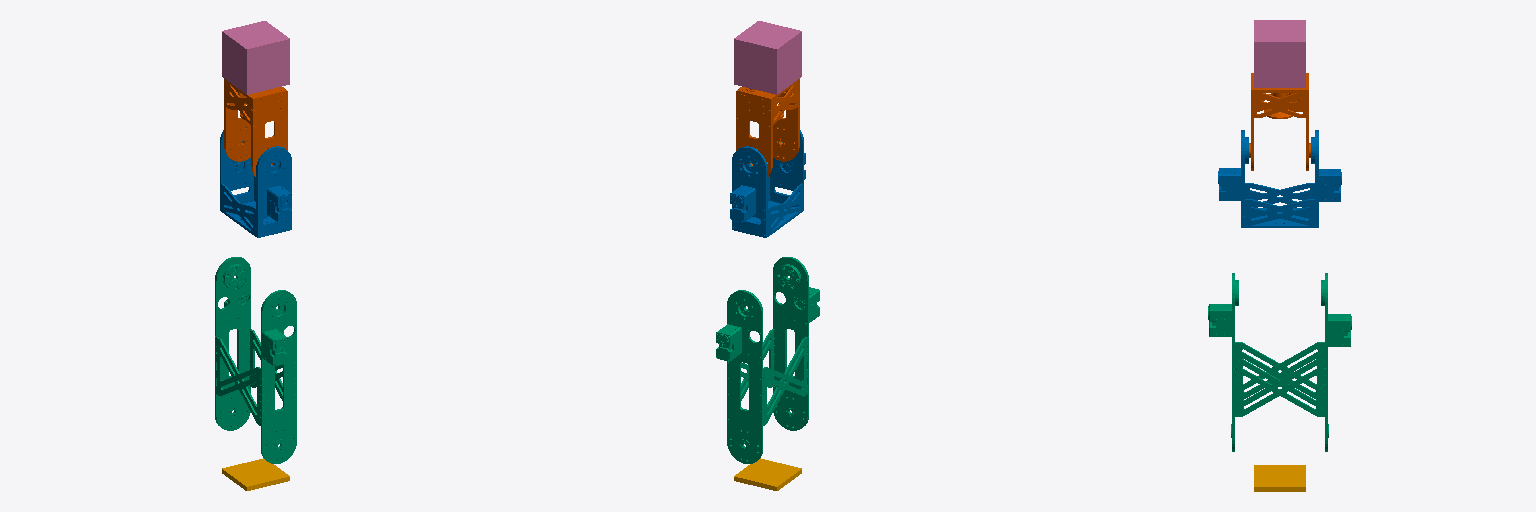
The robot description file, URDF, robot "apsara":
<?xml version="1.0" encoding="utf-8"?>
<!-- =================================================================================== -->
<!-- |    This document was autogenerated by xacro from mrm.xacro                      | -->
<!-- |    EDITING THIS FILE BY HAND IS NOT RECOMMENDED                                 | -->
<!-- =================================================================================== -->
<robot name="apsara">
  <!-- END - Include -->
  <link name="base_link">
    <inertial>
      <mass value="0"/>
      <origin rpy="0 0 0" xyz="0 0 -0.0915"/>
      <inertia ixx="0" ixy="0" ixz="0" iyy="0" iyz="0" izz="0"/>
    </inertial>
    <collision>
      <origin rpy="0 0 0" xyz="0 0 -0.0915"/>
      <geometry>
        <box size="0.1 0.1 0.01"/>
      </geometry>
    </collision>
    <visual>
      <origin rpy="0 0 0" xyz="0 0 -0.0915"/>
      <geometry>
        <box size="0.1 0.1 0.01"/>
      </geometry>
    </visual>
  </link>
  <joint name="base_link__link_01" type="revolute">
    <axis xyz="0 0 1"/>
    <limit effort="1000" lower="-3.14" upper="3.14" velocity="0.5"/>
    <origin rpy="0 0 0" xyz="0 0 -0.0915"/>
    <parent link="base_link"/>
    <child link="link_01"/>
  </joint>
  <transmission name="trans_base_link__link_01">
    <type>transmission_interface/SimpleTransmission</type>
    <joint name="base_link__link_01">
      <hardwareInterface>hardware_interface/EffortJointInterface</hardwareInterface>
    </joint>
    <actuator name="motor_base_link__link_01">
      <hardwareInterface>hardware_interface/EffortJointInterface</hardwareInterface>
      <mechanicalReduction>1</mechanicalReduction>
    </actuator>
  </transmission>
  <link name="link_01">
    <inertial>
      <mass value="157.633"/>
      <origin rpy="0 0 0" xyz="0 0 0"/>
      <inertia ixx="13.235" ixy="0" ixz="0" iyy="13.235" iyz="0" izz="9.655"/>
    </inertial>
    <collision>
      <origin rpy="0 0 0" xyz="0 0 0"/>
      <geometry>
        <mesh filename="package://apsara/meshes/link01.stl" scale="0.001 0.001 0.001"/>
      </geometry>
    </collision>
    <visual>
      <origin rpy="0 0 0" xyz="0 0 0"/>
      <geometry>
        <mesh filename="package://apsara/meshes/link01.stl" scale="0.001 0.001 0.001"/>
      </geometry>
      <material name="light_black"/>
    </visual>
  </link>
  <joint name="link_01__link_02" type="revolute">
    <axis xyz="0 1 0"/>
    <limit effort="1000" lower="-1.62" upper="1.62" velocity="0.5"/>
    <origin rpy="0 0 0" xyz="0 0 0.1"/>
    <parent link="link_01"/>
    <child link="link_02"/>
  </joint>
  <transmission name="trans_link_01__link_02">
    <type>transmission_interface/SimpleTransmission</type>
    <joint name="link_01__link_02">
      <hardwareInterface>hardware_interface/EffortJointInterface</hardwareInterface>
    </joint>
    <actuator name="motor_link_01__link_02">
      <hardwareInterface>hardware_interface/EffortJointInterface</hardwareInterface>
      <mechanicalReduction>1</mechanicalReduction>
    </actuator>
  </transmission>
  <link name="link_02">
    <inertial>
      <mass value="157.633"/>
      <origin rpy="0 0 0" xyz="0 0 -0.1"/>
      <inertia ixx="13.235" ixy="0" ixz="0" iyy="13.235" iyz="0" izz="9.655"/>
    </inertial>
    <collision>
      <origin rpy="0 0 0" xyz="0 0 -0.1"/>
      <geometry>
        <mesh filename="package://apsara/meshes/link12.stl" scale="0.001 0.001 0.001"/>
      </geometry>
    </collision>
    <visual>
      <origin rpy="0 0 0" xyz="0 0 -0.1"/>
      <geometry>
        <mesh filename="package://apsara/meshes/link12.stl" scale="0.001 0.001 0.001"/>
      </geometry>
      <material name="light_black"/>
    </visual>
  </link>
  <joint name="link_02__link_03" type="revolute">
    <axis xyz="0 1 0"/>
    <limit effort="1000" lower="-2.3" upper="2.3" velocity="0.5"/>
    <origin rpy="0 0 0" xyz="0 0 0.299"/>
    <parent link="link_02"/>
    <child link="link_03"/>
  </joint>
  <transmission name="trans_link_02__link_03">
    <type>transmission_interface/SimpleTransmission</type>
    <joint name="link_02__link_03">
      <hardwareInterface>hardware_interface/EffortJointInterface</hardwareInterface>
    </joint>
    <actuator name="motor_link_02__link_03">
      <hardwareInterface>hardware_interface/EffortJointInterface</hardwareInterface>
      <mechanicalReduction>1</mechanicalReduction>
    </actuator>
  </transmission>
  <link name="link_03">
    <inertial>
      <mass value="157.633"/>
      <origin rpy="0 0 0" xyz="0 0 -0.399"/>
      <inertia ixx="13.235" ixy="0" ixz="0" iyy="13.235" iyz="0" izz="9.655"/>
    </inertial>
    <collision>
      <origin rpy="0 0 0" xyz="0 0 -0.399"/>
      <geometry>
        <mesh filename="package://apsara/meshes/link23.stl" scale="0.001 0.001 0.001"/>
      </geometry>
    </collision>
    <visual>
      <origin rpy="0 0 0" xyz="0 0 -0.399"/>
      <geometry>
        <mesh filename="package://apsara/meshes/link23.stl" scale="0.001 0.001 0.001"/>
      </geometry>
      <material name="light_black"/>
    </visual>
  </link>
  <joint name="link_03__link_04" type="revolute">
    <axis xyz="0 0 1"/>
    <limit effort="1000" lower="-3.14" upper="3.14" velocity="0.5"/>
    <origin rpy="0 0 0" xyz="0 0 0.1593"/>
    <parent link="link_03"/>
    <child link="link_04"/>
  </joint>
  <transmission name="trans_link_03__link_04">
    <type>transmission_interface/SimpleTransmission</type>
    <joint name="link_03__link_04">
      <hardwareInterface>hardware_interface/EffortJointInterface</hardwareInterface>
    </joint>
    <actuator name="motor_link_03__link_04">
      <hardwareInterface>hardware_interface/EffortJointInterface</hardwareInterface>
      <mechanicalReduction>1</mechanicalReduction>
    </actuator>
  </transmission>
  <link name="link_04">
    <inertial>
      <mass value="157.633"/>
      <origin rpy="0 0 0" xyz="0 0 -0.5592"/>
      <inertia ixx="13.235" ixy="0" ixz="0" iyy="13.235" iyz="0" izz="9.655"/>
    </inertial>
    <collision>
      <origin rpy="0 0 0" xyz="0 0 -0.5592"/>
      <geometry>
        <mesh filename="package://apsara/meshes/link34.stl" scale="0.001 0.001 0.001"/>
      </geometry>
    </collision>
    <visual>
      <origin rpy="0 0 0" xyz="0 0 -0.5592"/>
      <geometry>
        <mesh filename="package://apsara/meshes/link34.stl" scale="0.001 0.001 0.001"/>
      </geometry>
      <material name="light_black"/>
    </visual>
  </link>
  <joint name="link_04__link_05" type="revolute">
    <axis xyz="0 1 0"/>
    <limit effort="1000" lower="-2.24" upper="2.24" velocity="0.5"/>
    <origin rpy="0 0 0" xyz="0 0 0.1493"/>
    <parent link="link_04"/>
    <child link="link_05"/>
  </joint>
  <transmission name="trans_link_04__link_05">
    <type>transmission_interface/SimpleTransmission</type>
    <joint name="link_04__link_05">
      <hardwareInterface>hardware_interface/EffortJointInterface</hardwareInterface>
    </joint>
    <actuator name="motor_link_04__link_05">
      <hardwareInterface>hardware_interface/EffortJointInterface</hardwareInterface>
      <mechanicalReduction>1</mechanicalReduction>
    </actuator>
  </transmission>
  <link name="link_05">
    <inertial>
      <mass value="157.633"/>
      <origin rpy="0 0 0" xyz="0 0 -0.7085"/>
      <inertia ixx="13.235" ixy="0" ixz="0" iyy="13.235" iyz="0" izz="9.655"/>
    </inertial>
    <collision>
      <origin rpy="0 0 0" xyz="0 0 -0.7085"/>
      <geometry>
        <mesh filename="package://apsara/meshes/link45.stl" scale="0.001 0.001 0.001"/>
      </geometry>
    </collision>
    <visual>
      <origin rpy="0 0 0" xyz="0 0 -0.7085"/>
      <geometry>
        <mesh filename="package://apsara/meshes/link45.stl" scale="0.001 0.001 0.001"/>
      </geometry>
      <material name="light_black"/>
    </visual>
  </link>
  <joint name="link_05__link_06" type="revolute">
    <axis xyz="0 0 1"/>
    <limit effort="1000" lower="-3.14" upper="3.14" velocity="0.5"/>
    <origin rpy="0 0 0" xyz="0 0 0.1628"/>
    <parent link="link_05"/>
    <child link="link_06"/>
  </joint>
  <transmission name="trans_link_05__link_06">
    <type>transmission_interface/SimpleTransmission</type>
    <joint name="link_05__link_06">
      <hardwareInterface>hardware_interface/EffortJointInterface</hardwareInterface>
    </joint>
    <actuator name="motor_link_05__link_06">
      <hardwareInterface>hardware_interface/EffortJointInterface</hardwareInterface>
      <mechanicalReduction>1</mechanicalReduction>
    </actuator>
  </transmission>
  <link name="link_06">
    <inertial>
      <mass value="1024"/>
      <origin rpy="0 0 0" xyz="0 0 0.045"/>
      <inertia ixx="170.667" ixy="0" ixz="0" iyy="170.667" iyz="0" izz="170.667"/>
    </inertial>
    <collision>
      <origin rpy="0 0 0" xyz="0 0 0.045"/>
      <geometry>
        <box size="0.1 0.1 0.1"/>
      </geometry>
    </collision>
    <visual>
      <origin rpy="0 0 0" xyz="0 0 0.045"/>
      <geometry>
        <box size="0.1 0.1 0.1"/>
      </geometry>
    </visual>
  </link>
  <!-- END - Robot description -->
  <gazebo>
    <plugin filename="libgazebo_ros_control.so" name="gazebo_ros_control">
    </plugin>
  </gazebo>
</robot>

--- What the picture shows (computed from the rendered views, not written in the file) ---
Views: 3 orthographic renders of the robot side by side, from view 1: azimuth 30°, elevation 25°; view 2: azimuth 150°, elevation 25°; view 3: azimuth 270°, elevation 25°.
Robot: apsara — 7 links, 6 joints (6 revolute); root link base_link; default pose: all joints at 0.
Visible links, largest first — view 1: link_02, link_04, link_06, link_05, base_link; view 2: link_02, link_04, link_06, link_05, base_link; view 3: link_02, link_04, link_06, link_05, base_link.
Link boxes in pixels (bbox=[...]): link_02: bbox=[215, 257, 296, 463]; link_04: bbox=[220, 130, 291, 237]; link_06: bbox=[222, 21, 289, 94]; link_05: bbox=[224, 79, 287, 176]; base_link: bbox=[222, 458, 289, 490]; link_02: bbox=[716, 257, 819, 463]; link_04: bbox=[730, 130, 805, 237]; link_06: bbox=[734, 21, 801, 94]; link_05: bbox=[736, 79, 799, 176]; base_link: bbox=[734, 458, 801, 490]; link_02: bbox=[1208, 273, 1351, 451]; link_04: bbox=[1218, 130, 1341, 227]; link_06: bbox=[1254, 20, 1305, 87]; link_05: bbox=[1249, 73, 1310, 170]; base_link: bbox=[1254, 465, 1305, 491].
Size in the robot's own frame: 0.1 by 0.281 by 0.9704 metres.
Meshes: 5 distinct files referenced, 3 mesh visuals loaded (3 binary STL); not drawn: 2 (reference not matched to a file when rendering).
